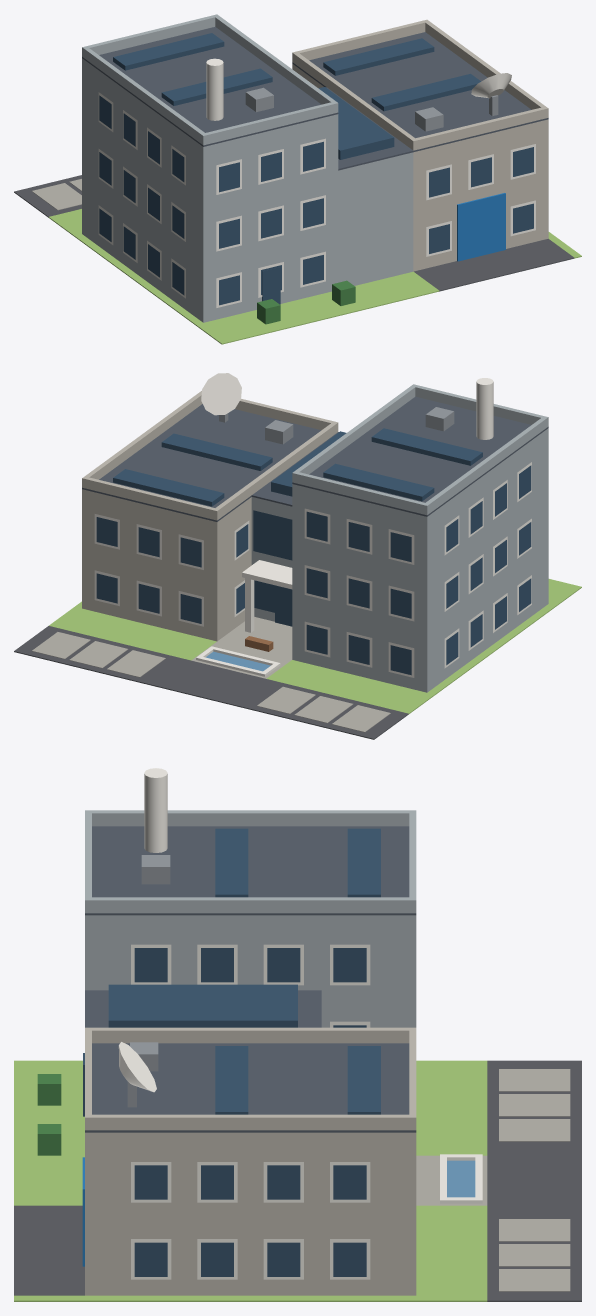
3 views of the same model, one above another, from view 1: azimuth 30°, elevation 25°; view 2: azimuth 150°, elevation 25°; view 3: azimuth 270°, elevation 25° (orthographic). The views are drawn at different scales.
Parts seen in each view (by area): view 1: wall (×2), roof (×3), parapet (×8), atrium, window_glass (×13), lawn (×3), solar_panel (×4), asphalt (×2), garage_door, roof_light, ac_unit (×2), smoke_stack (+4 smaller); view 2: wall (×2), roof (×3), parapet (×8), lawn (×4), window_glass (×15), asphalt, solar_panel (×4), parking_bay (×6), window_band (×2), paving, dish, atrium (+7 smaller); view 3: wall (×2), roof (×3), lawn (×4), parapet (×8), asphalt (×2), window_glass (×12), parking_bay (×6), solar_panel (×4), roof_light, smoke_stack, tree_spot (×2), paving (+3 smaller).
Part boxes in pixels (x1=…): wall (×2): x1=82, y1=58, x2=548, y2=322; roof (×3): x1=82, y1=27, x2=548, y2=170; parapet (×8): x1=82, y1=14, x2=548, y2=150; atrium: x1=338, y1=152, x2=413, y2=285; window_glass (×13): x1=219, y1=141, x2=533, y2=305; lawn (×3): x1=48, y1=209, x2=555, y2=344; solar_panel (×4): x1=113, y1=33, x2=480, y2=111; asphalt (×2): x1=14, y1=175, x2=574, y2=291; garage_door: x1=457, y1=193, x2=505, y2=261; roof_light: x1=319, y1=87, x2=394, y2=159; ac_unit (×2): x1=245, y1=87, x2=443, y2=131; smoke_stack: x1=206, y1=58, x2=223, y2=120; wall (×2): x1=82, y1=428, x2=548, y2=692; roof (×3): x1=82, y1=396, x2=548, y2=521; parapet (×8): x1=82, y1=384, x2=548, y2=520; lawn (×4): x1=49, y1=579, x2=581, y2=714; window_glass (×15): x1=96, y1=511, x2=411, y2=675; asphalt: x1=14, y1=626, x2=408, y2=739; solar_panel (×4): x1=113, y1=428, x2=482, y2=506; parking_bay (×6): x1=32, y1=632, x2=390, y2=732; window_band (×2): x1=253, y1=510, x2=292, y2=612; paving: x1=206, y1=617, x2=292, y2=667; dish: x1=201, y1=373, x2=241, y2=415; atrium: x1=251, y1=497, x2=292, y2=621; wall (×2): x1=85, y1=915, x2=416, y2=1295; roof (×3): x1=85, y1=826, x2=416, y2=1132; lawn (×4): x1=14, y1=1060, x2=487, y2=1301; parapet (×8): x1=85, y1=810, x2=416, y2=1130; asphalt (×2): x1=14, y1=1060, x2=581, y2=1301; window_glass (×12): x1=134, y1=948, x2=366, y2=1276; parking_bay (×6): x1=499, y1=1069, x2=570, y2=1291; solar_panel (×4): x1=215, y1=828, x2=380, y2=1114; roof_light: x1=108, y1=984, x2=297, y2=1027; smoke_stack: x1=144, y1=768, x2=167, y2=852; tree_spot (×2): x1=37, y1=1074, x2=61, y2=1155; paving: x1=416, y1=1155, x2=446, y2=1205.
Size of the model in its own units: 24 by 14.86 by 24.
